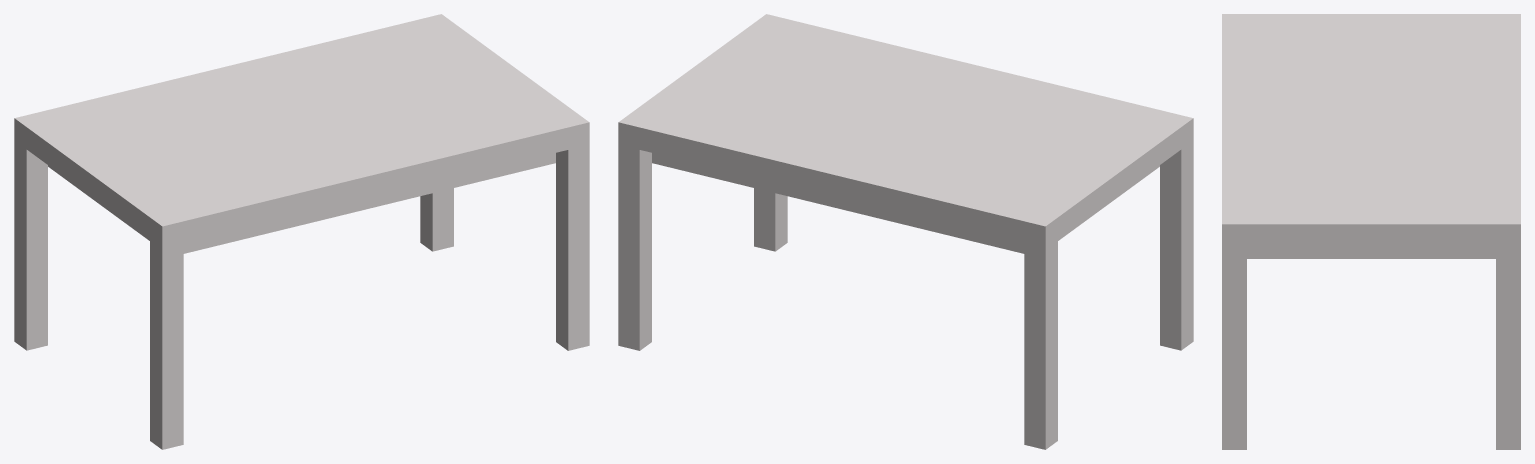
The model's file is mesablanca.fbx.
The picture shows the model from 3 angles, left to right: view 1: azimuth 30°, elevation 25°; view 2: azimuth 150°, elevation 25°; view 3: azimuth 270°, elevation 25°; orthographic projection.
Parts seen in each view (by area): view 1: cuboid, cuboid_2, cuboid_3, cuboid_5, cuboid_1, cuboid_4; view 2: cuboid, cuboid_5, cuboid_4, cuboid_2, cuboid_1, cuboid_3; view 3: cuboid, cuboid_3, cuboid_4, cuboid_1.
Part boxes in pixels (x1,y1,x2,y2): cuboid: (14, 14, 589, 248); cuboid_2: (150, 240, 183, 449); cuboid_3: (556, 144, 589, 350); cuboid_5: (14, 140, 47, 350); cuboid_1: (48, 153, 555, 253); cuboid_4: (420, 188, 453, 251); cuboid: (618, 14, 1193, 248); cuboid_5: (1024, 240, 1057, 449); cuboid_4: (618, 144, 651, 350); cuboid_2: (1160, 140, 1193, 350); cuboid_1: (652, 153, 1159, 253); cuboid_3: (754, 188, 787, 251); cuboid: (1222, 14, 1520, 246); cuboid_3: (1222, 247, 1246, 449); cuboid_4: (1496, 247, 1520, 449); cuboid_1: (1247, 247, 1495, 258).
Size of the model in its own units: 125 by 62.5 by 75.
1 material, 1 textured.
